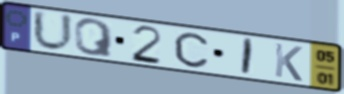2: (130, 24, 164, 66)
C: (172, 31, 210, 70)
I: (239, 36, 256, 77)
K: (273, 41, 305, 83)
Q: (73, 18, 116, 59)
U: (31, 8, 76, 54)
